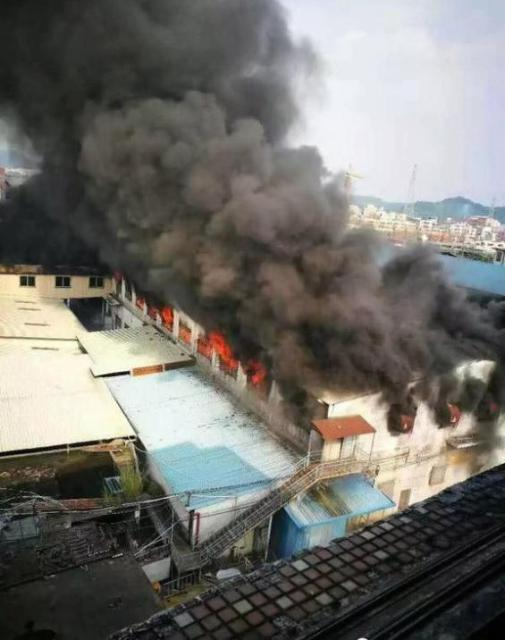fire: (210, 333, 226, 355), (160, 305, 171, 321), (221, 356, 237, 366)
